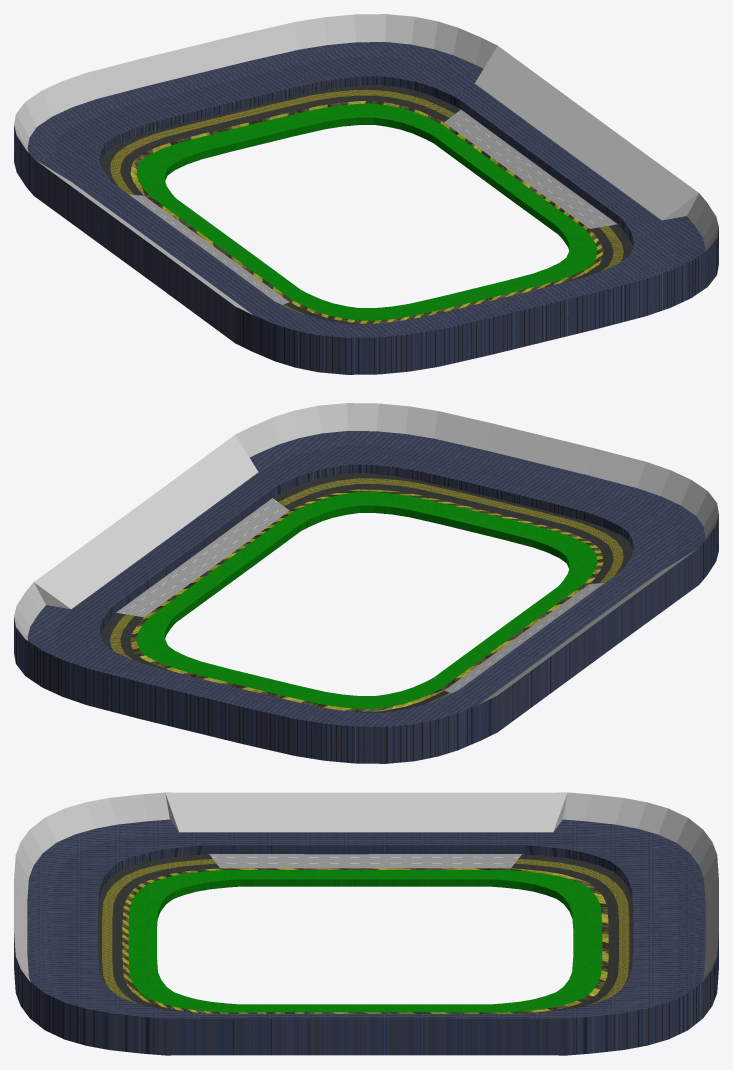
File: Curcuit.fbx
3 renders of one model, top to bottom at view 1: azimuth 30°, elevation 25°; view 2: azimuth 150°, elevation 25°; view 3: azimuth 270°, elevation 25°, orthographic.
Visible parts, largest first — view 1: CURCUIT; view 2: CURCUIT; view 3: CURCUIT.
Boxes of the visible parts, left/top/right/bottom form: CURCUIT: left=14, top=14, right=718, bottom=374; CURCUIT: left=14, top=403, right=718, bottom=763; CURCUIT: left=14, top=792, right=718, bottom=1055.
Size of the model in its own units: 8003 by 739 by 10547.
